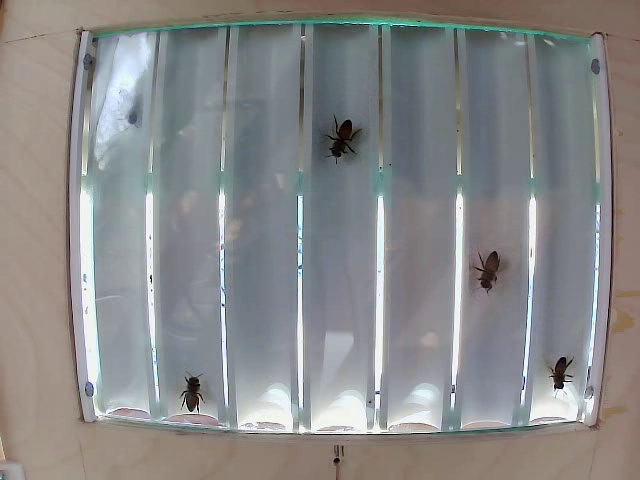bee: (465, 243, 499, 286), (326, 113, 352, 159), (548, 352, 577, 387), (178, 381, 209, 403)
